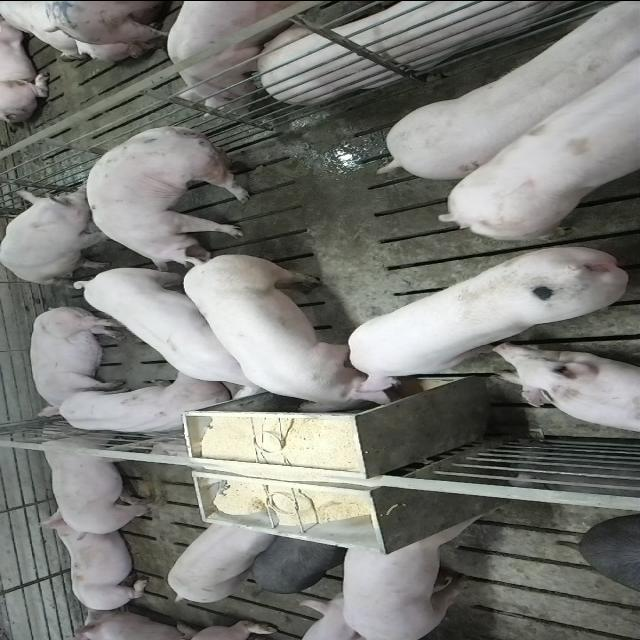Feeding: (342, 244, 630, 396), (175, 256, 392, 420)
Lateral_lying: (247, 0, 607, 101), (28, 303, 128, 416)
Sitting: (0, 186, 114, 284)
Standing: (379, 0, 639, 176), (70, 262, 283, 396), (82, 124, 248, 270), (343, 505, 501, 639), (31, 422, 170, 535), (168, 0, 304, 106), (166, 518, 277, 604), (247, 530, 347, 594)
Sternal_lying: (492, 346, 640, 434), (52, 374, 232, 437), (36, 520, 154, 612)
